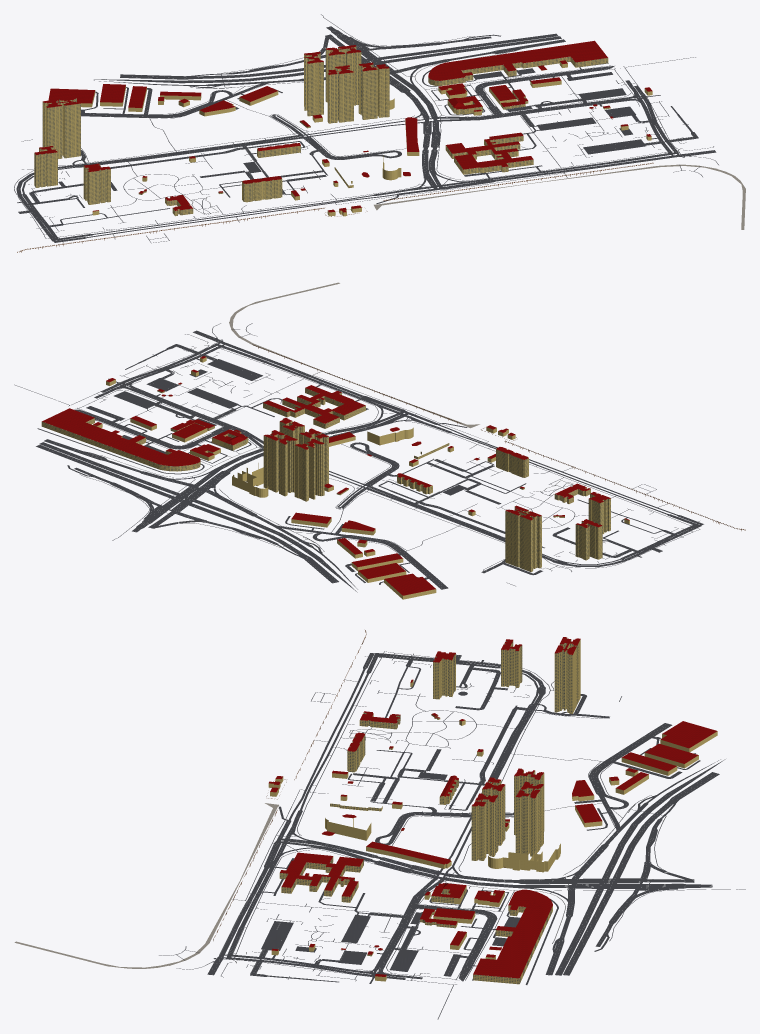
Rendered from osm3d.glb.
3 views of the same model, one above another, from view 1: azimuth 30°, elevation 25°; view 2: azimuth 150°, elevation 25°; view 3: azimuth 270°, elevation 25° (orthographic). The views are drawn at different scales.
Parts seen in each view (by area): view 1: ASPHALT, Plaster002, RoofingTiles010, Windows, PEBBLESTONE, WOOD; view 2: ASPHALT, Plaster002, RoofingTiles010, Windows, PEBBLESTONE, WOOD; view 3: ASPHALT, Plaster002, RoofingTiles010, Windows, PEBBLESTONE.
Boxes of the visible parts, box(x1,y1,x2,y2) form: ASPHALT: box(14, 14, 718, 243); Plaster002: box(34, 46, 652, 216); RoofingTiles010: box(34, 40, 652, 212); Windows: box(34, 47, 608, 215); PEBBLESTONE: box(374, 164, 745, 229); WOOD: box(17, 162, 653, 252); ASPHALT: box(14, 323, 703, 592); Plaster002: box(41, 357, 629, 599); RoofingTiles010: box(42, 356, 629, 595); Windows: box(42, 388, 610, 571); PEBBLESTONE: box(229, 282, 479, 428); WOOD: box(252, 344, 745, 530); ASPHALT: box(159, 651, 745, 1019); Plaster002: box(268, 637, 717, 984); RoofingTiles010: box(269, 637, 717, 978); Windows: box(280, 640, 578, 983); PEBBLESTONE: box(14, 803, 278, 968).
Bounding box in the file's own units: 1412 × 100 × 1124.
15 materials, 15 textured.
